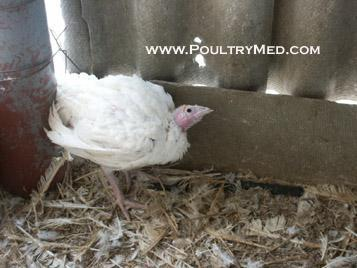AbNormal: (47, 71, 214, 220)
